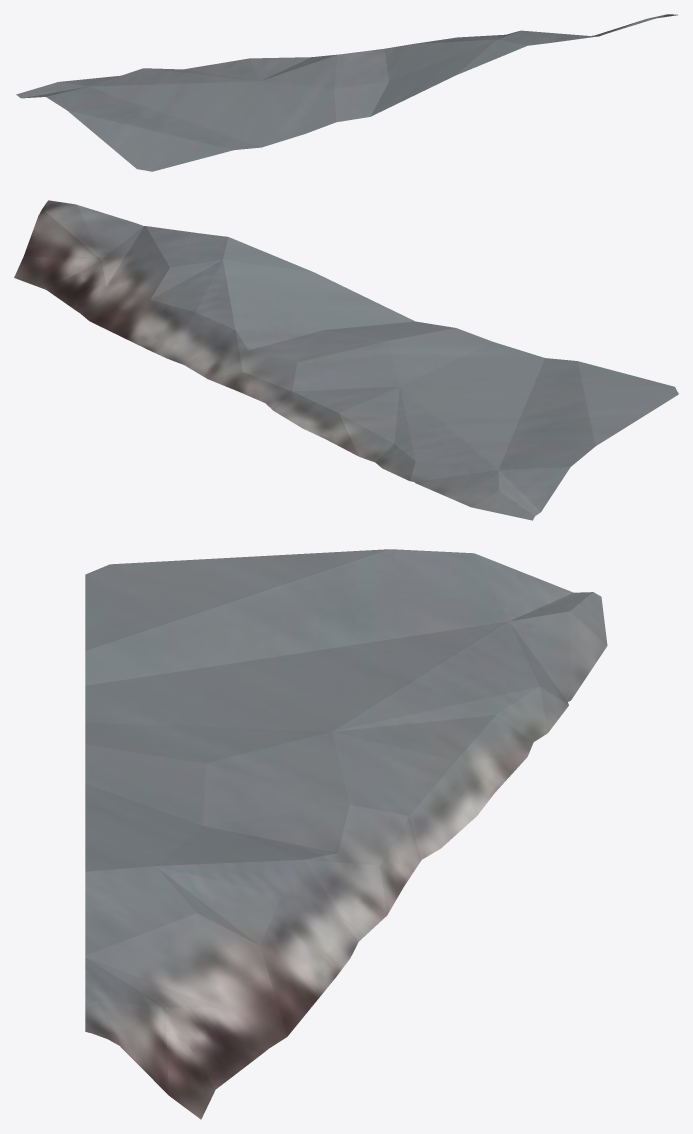
3 renders of one model, top to bottom at view 1: azimuth 30°, elevation 25°; view 2: azimuth 150°, elevation 25°; view 3: azimuth 270°, elevation 25°, orthographic. The views are drawn at different scales.
Size of the model in its own units: 1.67 by 0.1498 by 0.7063.
Materials: 1 (1 with a texture image).
